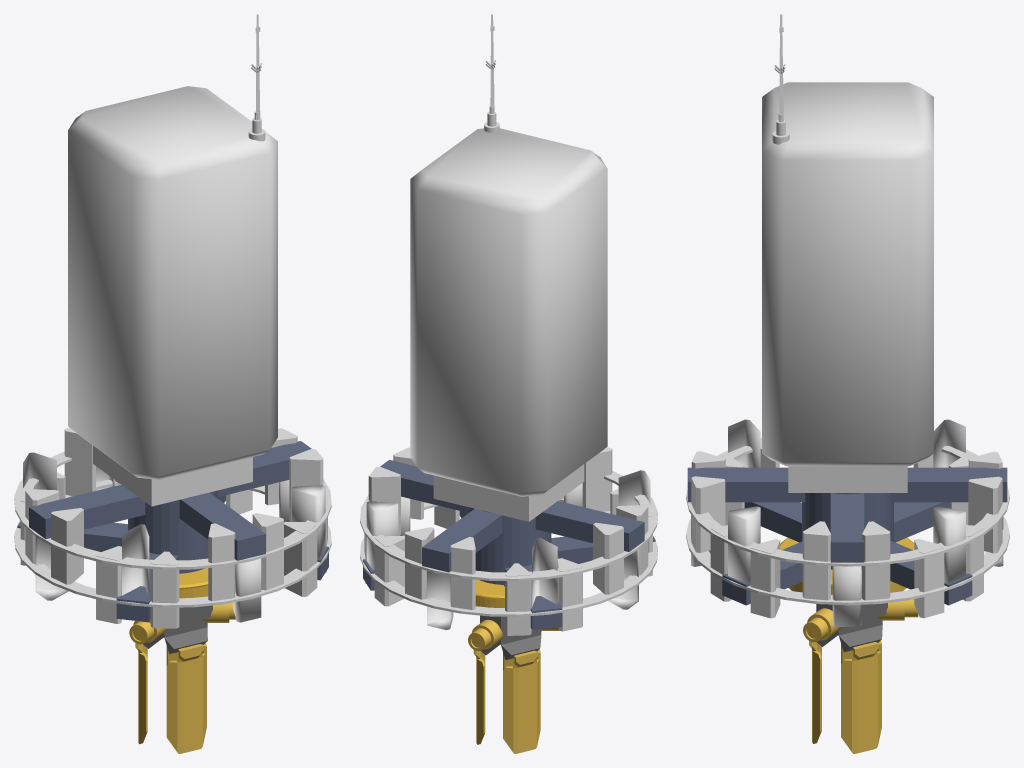
The model's file is station_shipmaker_1.glb.
The picture shows the model from 3 angles, left to right: view 1: azimuth 30°, elevation 25°; view 2: azimuth 150°, elevation 25°; view 3: azimuth 270°, elevation 25°; orthographic projection. The views are drawn at different scales.
Visible parts, largest first — view 1: Cube.001, satation_base, Cube.012, Cube.004, Cylinder.034, Cylinder.053, Cylinder.036, Cube.005, Cylinder.040, Cylinder.046, Cylinder.052, Cylinder.043 (+13 smaller); view 2: Cube.001, satation_base, Cube.012, Cube.004, Cylinder.034, Cylinder.036, Cylinder.053, Cube.005, Cylinder.050, Cylinder.038, Cylinder.052, Cylinder.044 (+13 smaller); view 3: Cube.001, satation_base, Cube.005, Cube.004, Cylinder.034, Cube.011, Cube.013, Cylinder.036, Cube.012, Cylinder.049, Cylinder.053, Cylinder.039 (+11 smaller).
Boxes of the visible parts, x1,y1,x2,y2 form: Cube.001: (68, 86, 277, 479); satation_base: (129, 568, 235, 753); Cube.012: (29, 441, 311, 538); Cube.004: (93, 445, 252, 506); Cylinder.034: (14, 451, 331, 569); Cylinder.053: (128, 490, 217, 573); Cylinder.036: (14, 479, 331, 607); Cube.005: (179, 492, 265, 560); Cylinder.040: (51, 508, 83, 584); Cylinder.046: (150, 551, 179, 628); Cylinder.052: (208, 523, 235, 601); Cylinder.043: (284, 521, 317, 596); Cube.001: (410, 128, 607, 496); satation_base: (468, 579, 559, 753); Cube.012: (380, 460, 644, 551); Cube.004: (433, 464, 584, 521); Cylinder.034: (360, 471, 657, 581); Cylinder.036: (360, 498, 657, 616); Cylinder.053: (466, 507, 551, 584); Cube.005: (422, 509, 502, 572); Cylinder.050: (593, 522, 623, 594); Cylinder.038: (450, 537, 475, 609); Cylinder.052: (582, 447, 612, 511); Cylinder.044: (505, 563, 531, 635); Cube.001: (762, 82, 933, 466); satation_base: (780, 537, 918, 753); Cube.005: (687, 467, 1007, 502); Cube.004: (788, 466, 907, 492); Cylinder.034: (686, 438, 1009, 566); Cube.011: (744, 502, 972, 605); Cube.013: (722, 502, 948, 605); Cylinder.036: (686, 516, 1009, 605); Cube.012: (830, 493, 864, 562); Cylinder.049: (802, 521, 830, 600); Cylinder.053: (802, 493, 893, 569); Cylinder.039: (862, 521, 890, 600).
Bounding box in the file's own units: 135 × 346 × 135.
